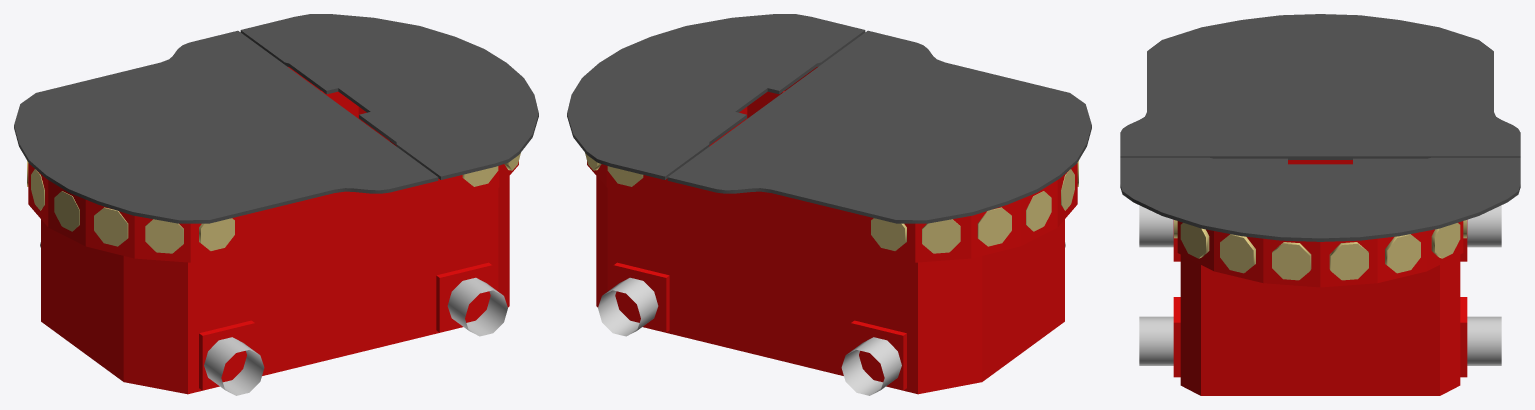
File: chasis.dae
3 views of the same model, side by side, from view 1: azimuth 30°, elevation 25°; view 2: azimuth 150°, elevation 25°; view 3: azimuth 270°, elevation 25° (orthographic).
Parts seen in each view (by area): view 1: Cube.001, Plane.001, Cylinder.001, Plane.007, Plane.002, Plane.006, Plane.005, Cylinder, Cylinder.002; view 2: Cube.001, Plane.001, Cylinder.002, Plane.012, Plane.015, Plane.013, Plane.014, Cylinder.003, Cylinder.001; view 3: Cube.001, Plane.001, Cylinder, Cylinder.003, Plane.007, Plane.012, Plane.002, Plane.015, Plane.006, Plane.013.
Boxes of the visible parts, x1,y1,x2,y2 form: Cube.001: [14, 14, 538, 223]; Plane.001: [28, 67, 518, 394]; Cylinder.001: [54, 191, 234, 253]; Plane.007: [447, 277, 507, 336]; Plane.002: [204, 337, 264, 395]; Plane.006: [436, 262, 492, 332]; Plane.005: [199, 320, 254, 390]; Cylinder: [462, 153, 520, 186]; Cylinder.002: [27, 160, 44, 210]; Cube.001: [567, 14, 1091, 223]; Plane.001: [587, 67, 1077, 394]; Cylinder.002: [871, 191, 1051, 253]; Plane.012: [598, 277, 658, 336]; Plane.015: [841, 337, 901, 395]; Plane.013: [613, 262, 669, 332]; Plane.014: [851, 320, 906, 390]; Cylinder.003: [585, 153, 643, 186]; Cylinder.001: [1061, 160, 1078, 210]; Cube.001: [1120, 14, 1520, 241]; Plane.001: [1177, 160, 1463, 395]; Cylinder: [1174, 220, 1311, 280]; Cylinder.003: [1329, 220, 1466, 280]; Plane.007: [1139, 316, 1173, 365]; Plane.012: [1467, 316, 1501, 365]; Plane.002: [1139, 205, 1173, 247]; Plane.015: [1467, 205, 1501, 247]; Plane.006: [1173, 297, 1180, 377]; Plane.013: [1460, 297, 1467, 377].
Size of the model in its own units: 0.5082 by 0.3831 by 0.1956.
